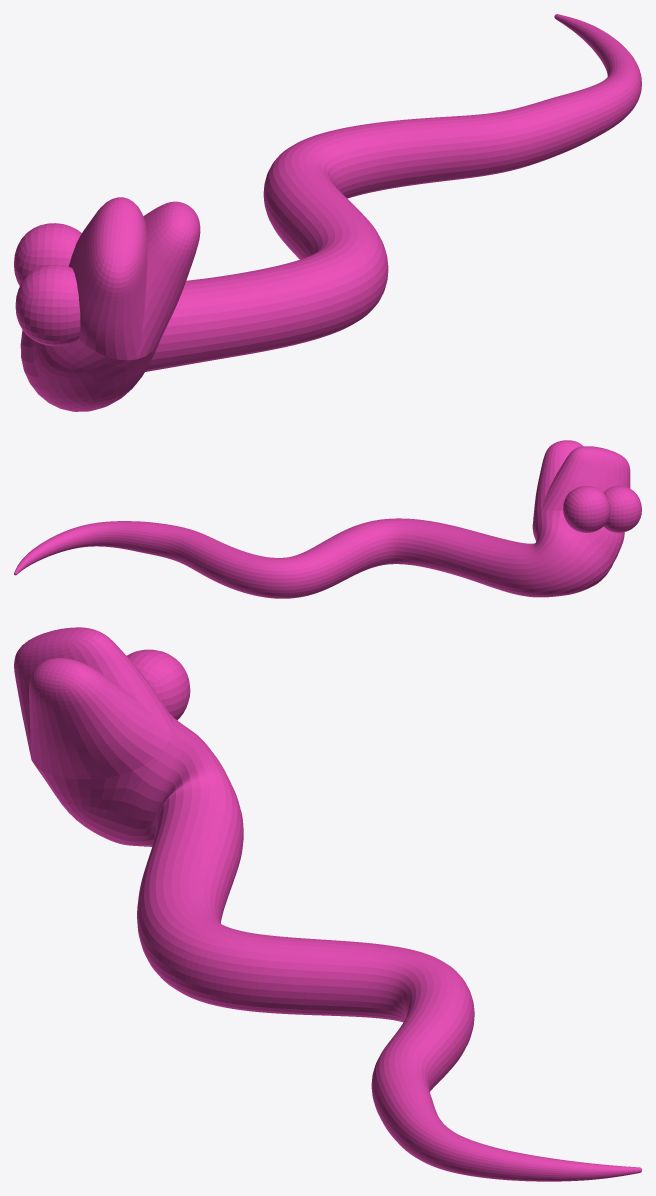
The model's file is snake6.glb.
The picture shows the model from 3 angles, top to bottom: view 1: azimuth 30°, elevation 25°; view 2: azimuth 150°, elevation 25°; view 3: azimuth 270°, elevation 25°; orthographic projection. The views are drawn at different scales.
Visible parts, largest first — view 1: Cube.007; view 2: Cube.007; view 3: Cube.007.
Boxes of the visible parts, x1,y1,x2,y2 form: Cube.007: (14, 14, 641, 411); Cube.007: (14, 440, 641, 598); Cube.007: (14, 627, 641, 1181).
Bounding box in the file's own units: 0.7192 × 0.1883 × 0.4745.
